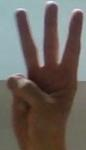W: (0, 2, 85, 134)
